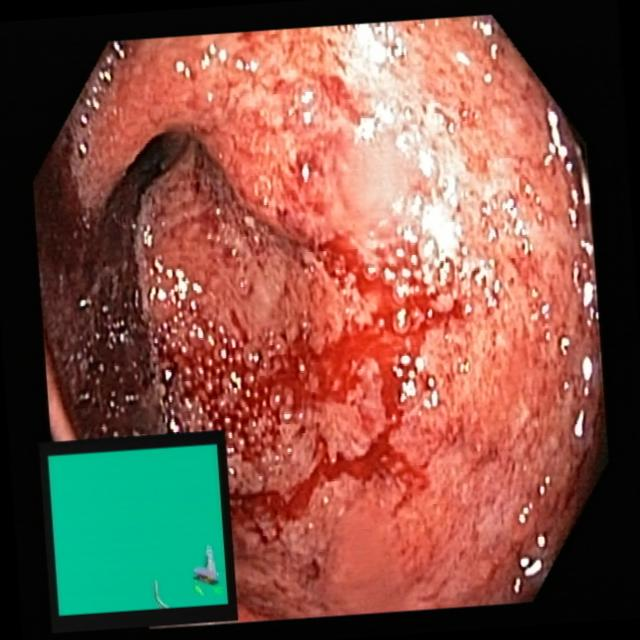ulcerative-colities: (39, 10, 589, 622)
